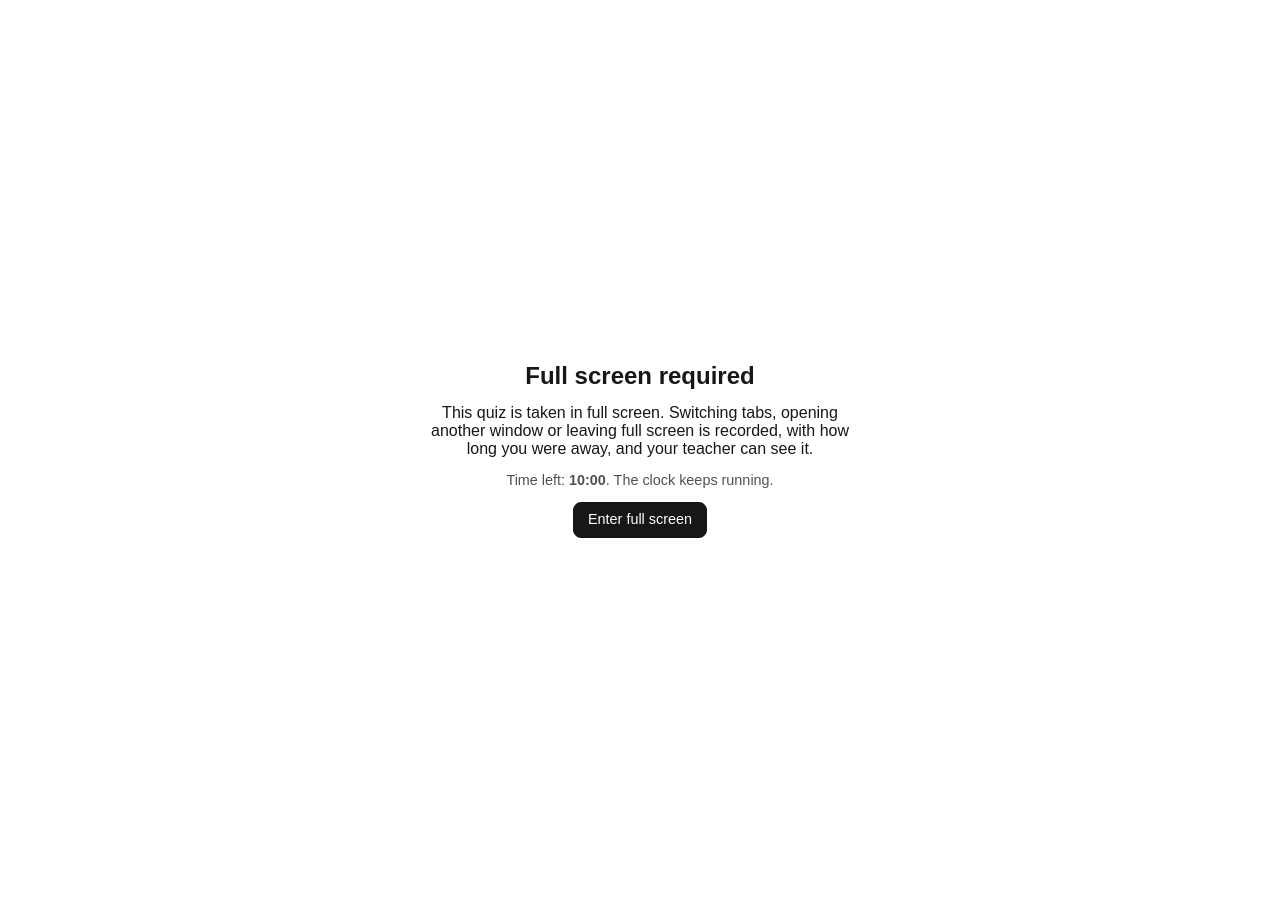
Test case: cheating prevention on the quiz screen › full screen › holds the quiz behind a prompt until the student enters full screen
Expected: the heading "Full screen required" is shown, [525,362,755,390]
Expected: the element that starts with "Networking basics" is shown, [0,0,1279,378]
Click the button "Enter full screen" at (640, 520), box [573,502,707,538]
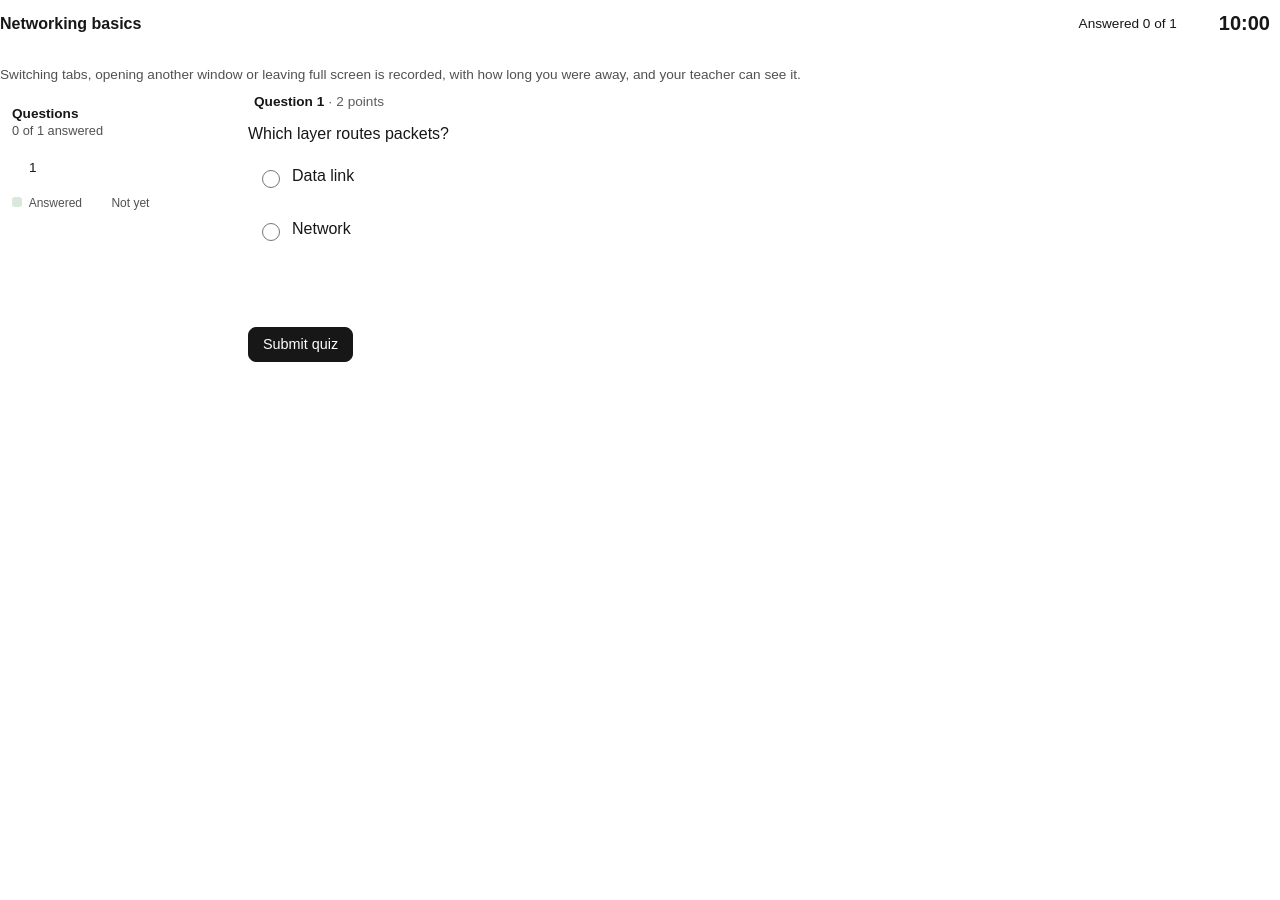
Now the dialog is gone
